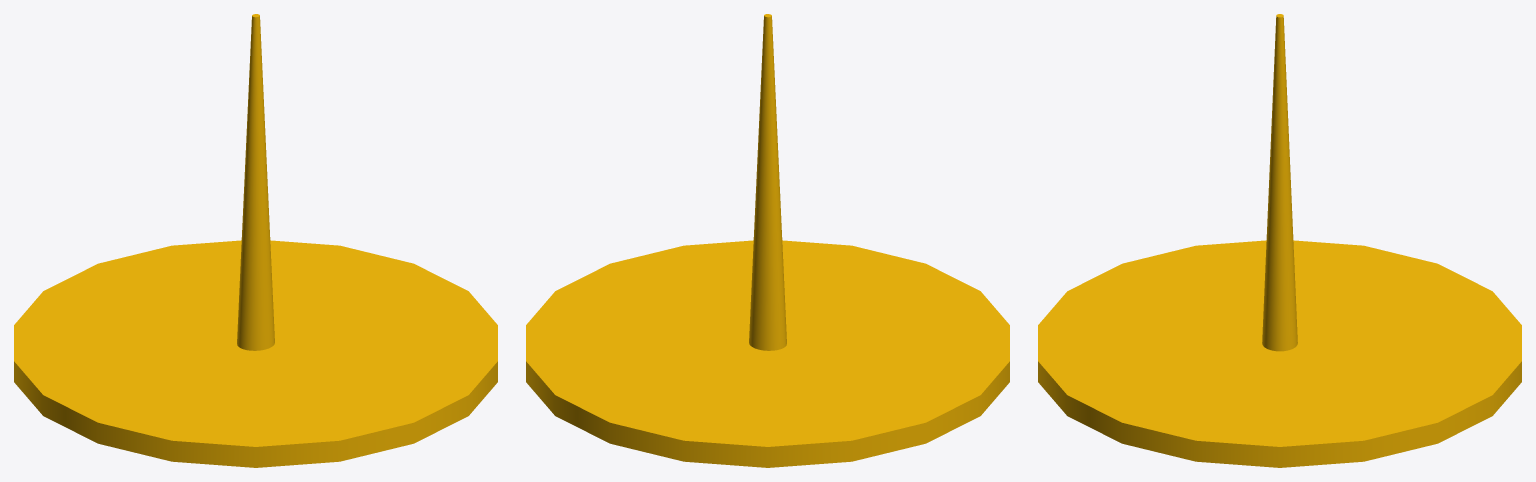
File: othumbtack.FBX
3 views of the same model, side by side, from view 1: azimuth 30°, elevation 25°; view 2: azimuth 150°, elevation 25°; view 3: azimuth 270°, elevation 25° (orthographic).
Visible parts, largest first — view 1: Cylinder002, Cone001; view 2: Cylinder002, Cone001; view 3: Cylinder002, Cone001.
Part boxes in pixels (<box>): Cylinder002: <box>14,240,497,467</box>; Cone001: <box>237,14,274,350</box>; Cylinder002: <box>526,240,1009,467</box>; Cone001: <box>749,14,786,350</box>; Cylinder002: <box>1038,240,1521,467</box>; Cone001: <box>1262,14,1297,351</box>.
Size of the model in its own units: 2.68 by 2.64 by 2.1.
Materials: 2 (2 with a texture image).
